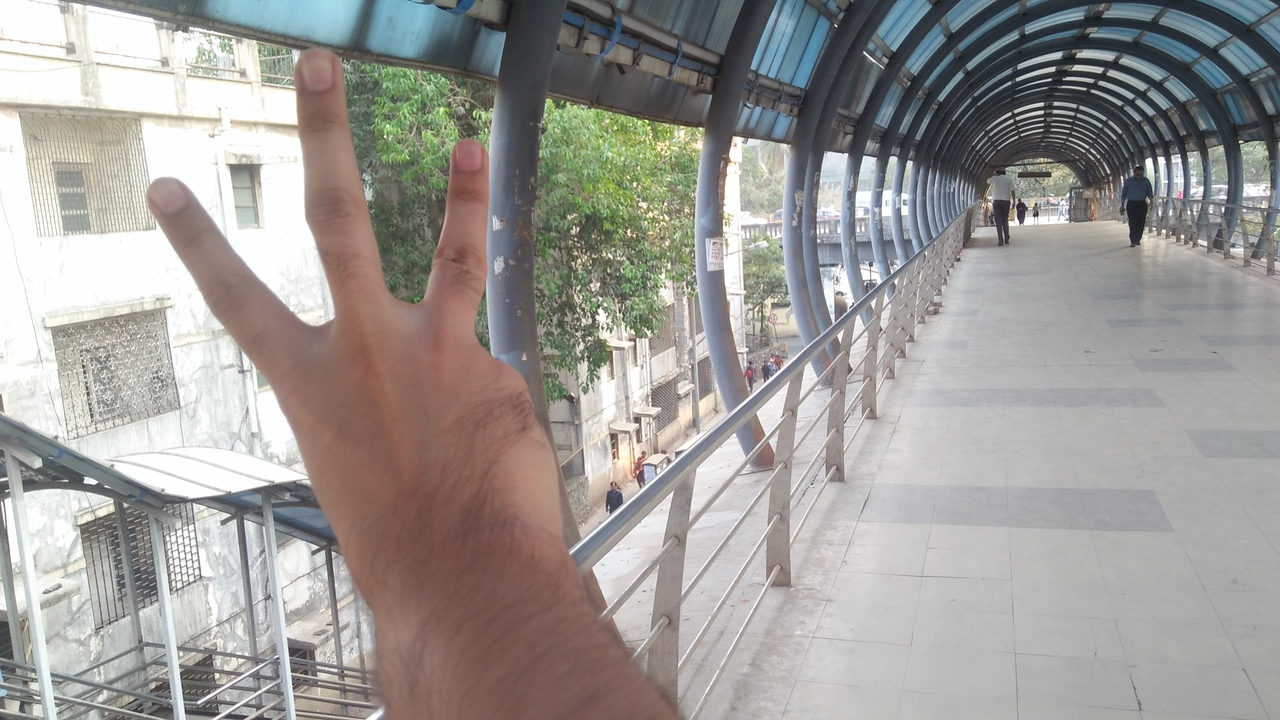fingertip: (284, 42, 342, 92), (144, 174, 194, 224), (438, 130, 486, 180)
